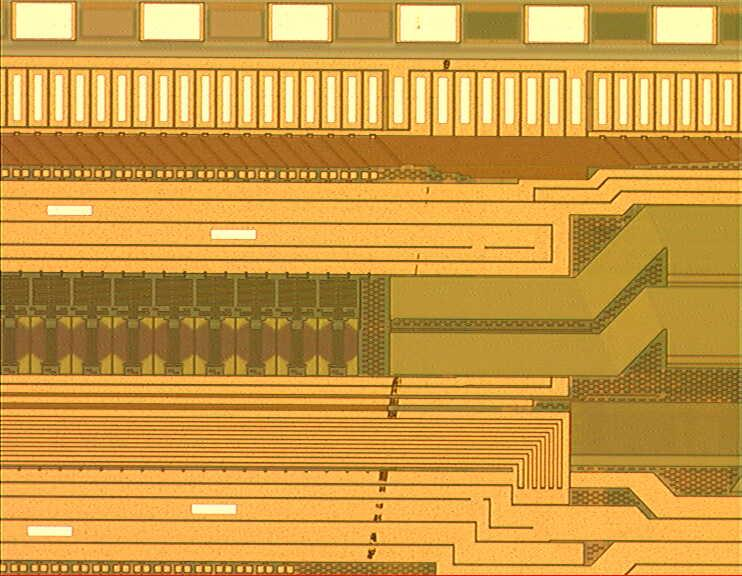SCRATCH: (359, 54, 459, 574)
